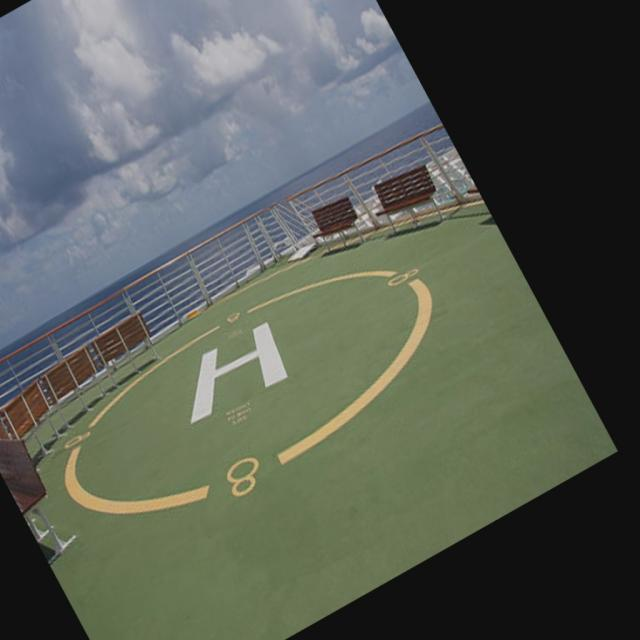helipad: (59, 263, 434, 523)
